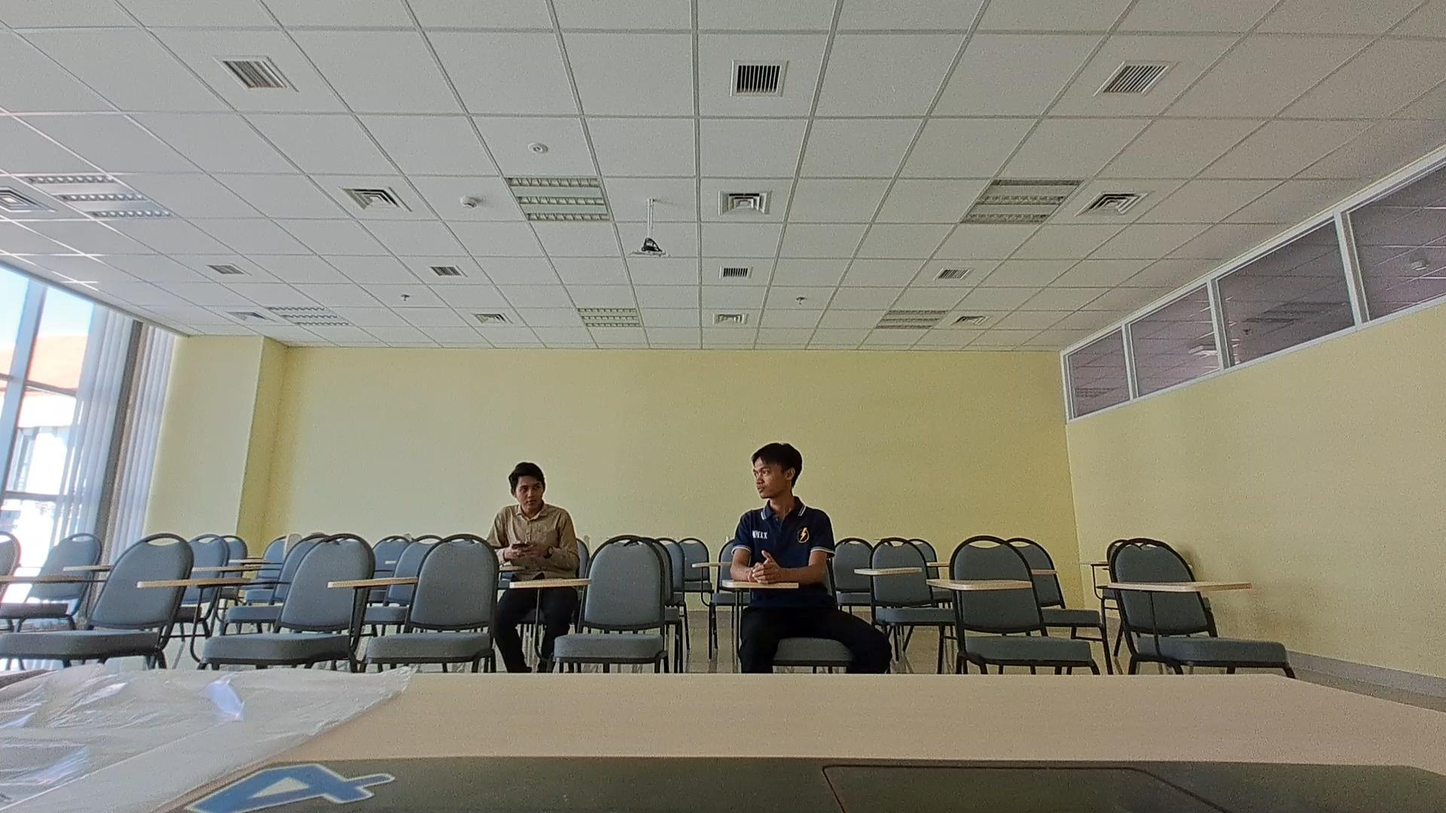phone: (477, 453, 582, 581)
study: (716, 435, 842, 584)
